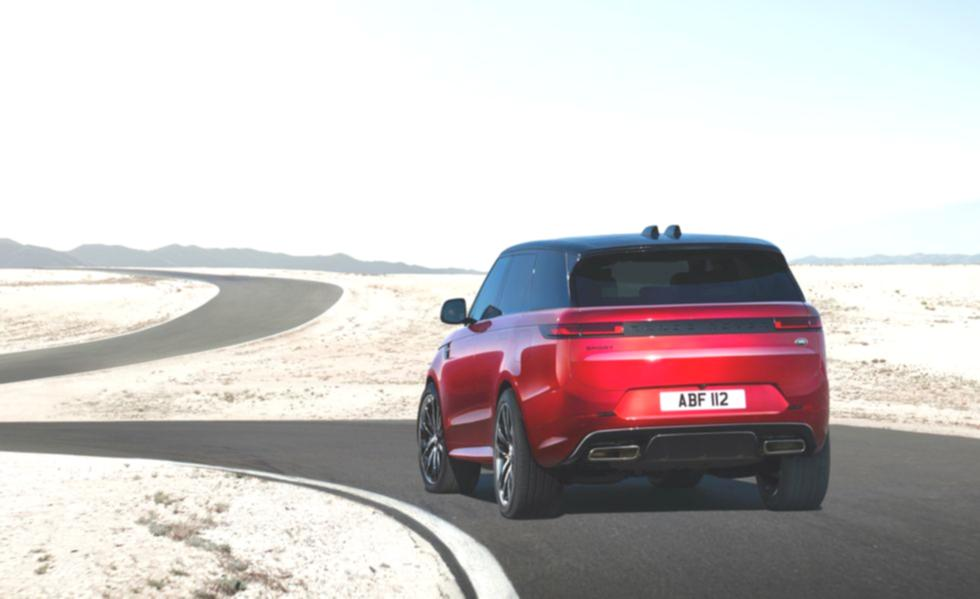range rover: (623, 314, 777, 341)
